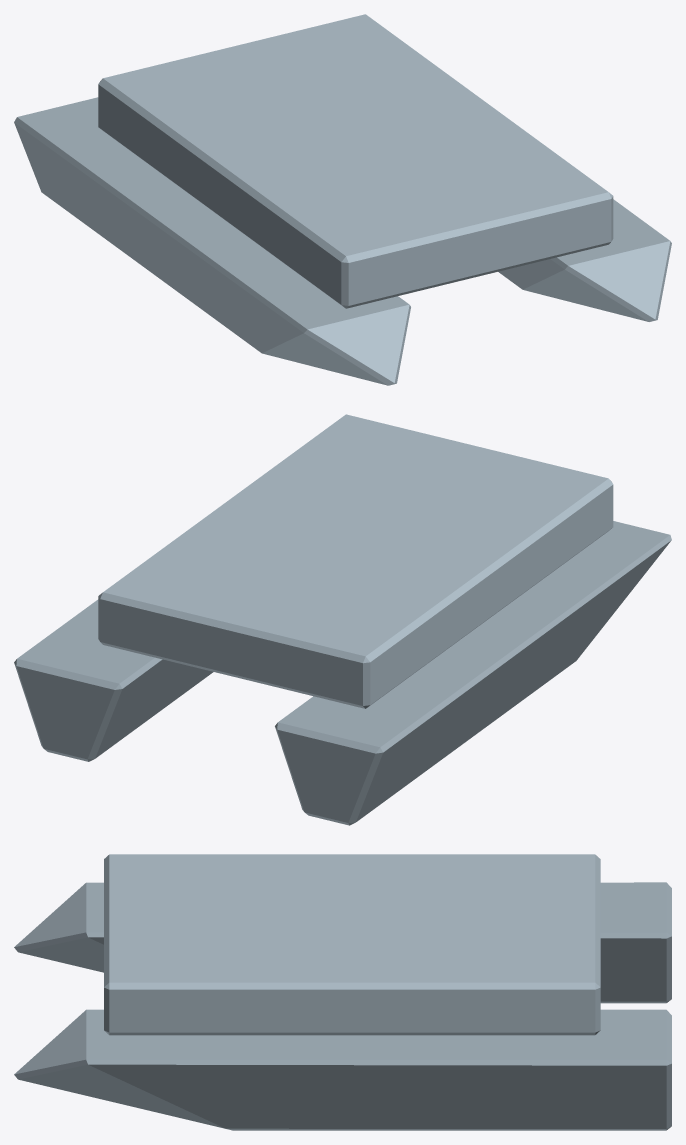
Rendered from catamaran_hull_heavy.glb.
The picture shows the model from 3 angles, top to bottom: view 1: azimuth 30°, elevation 25°; view 2: azimuth 150°, elevation 25°; view 3: azimuth 270°, elevation 25°; orthographic projection.
Parts seen in each view (by area): view 1: catamaran_hull_heavy; view 2: catamaran_hull_heavy; view 3: catamaran_hull_heavy.
Part boxes in pixels (bbox=[...]): catamaran_hull_heavy: bbox=[14, 14, 671, 385]; catamaran_hull_heavy: bbox=[14, 414, 671, 825]; catamaran_hull_heavy: bbox=[14, 854, 671, 1130].
Bounding box in the file's own units: 6.15 × 2.2 × 9.48.
